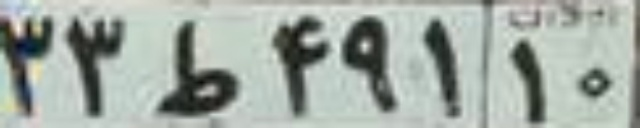0: (572, 67, 614, 99)
1: (418, 17, 460, 118), (507, 38, 546, 122)
3: (63, 14, 128, 120), (0, 12, 57, 119)
4: (270, 15, 328, 116)
9: (339, 15, 398, 113)
taa: (156, 18, 240, 117)
